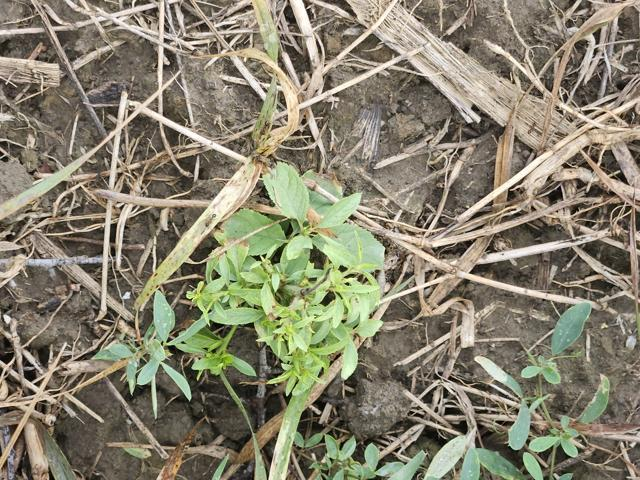bad weed: (106, 165, 399, 413), (397, 335, 612, 477)
